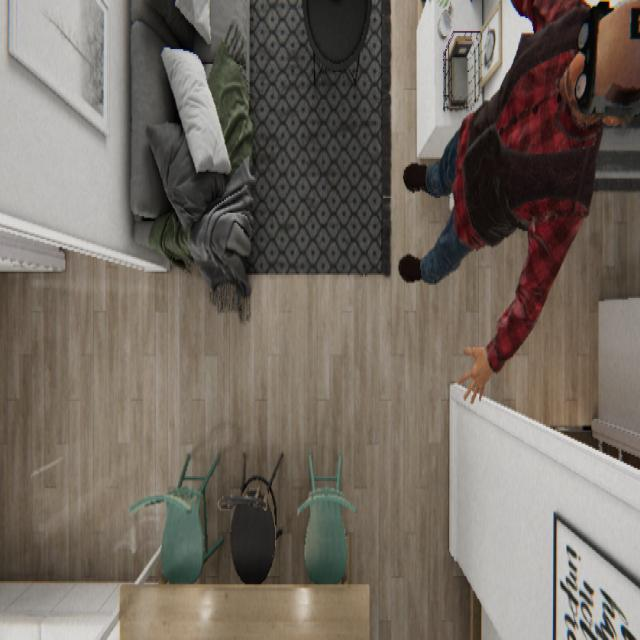Human: (397, 0, 638, 404)
